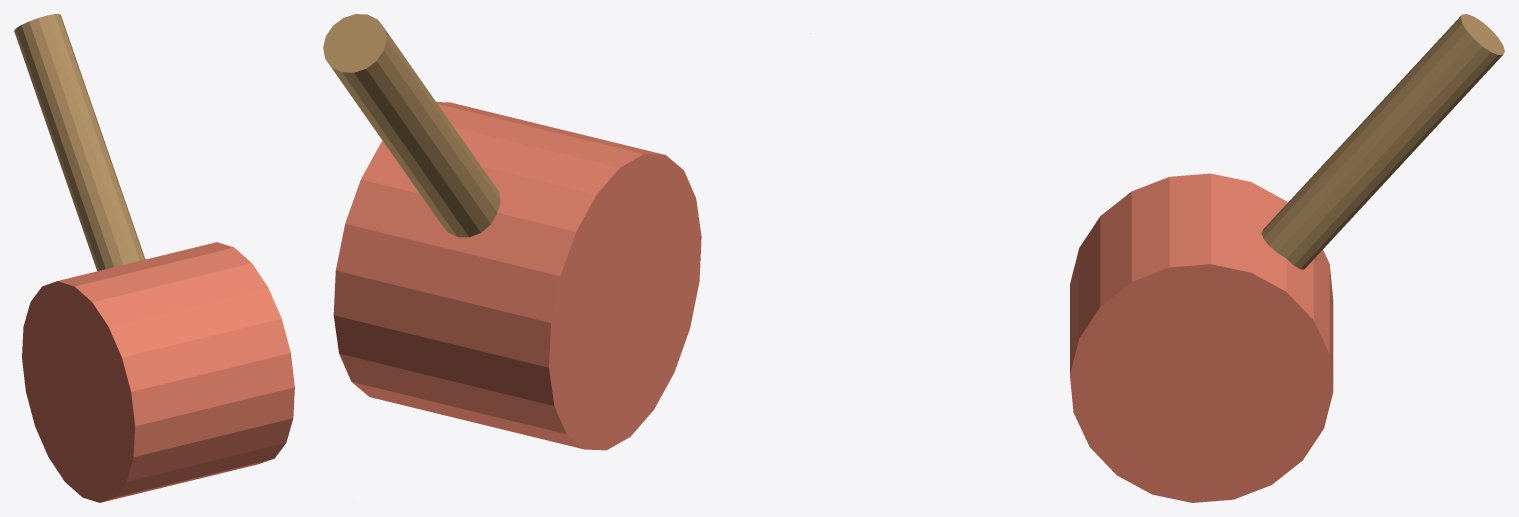
Rendered from mallet_2tou_3d.glb.
3 views of the same model, side by side, from view 1: azimuth 30°, elevation 25°; view 2: azimuth 150°, elevation 25°; view 3: azimuth 270°, elevation 25° (orthographic). The views are drawn at different scales.
Visible parts, largest first — view 1: mallet_head, mallet_handle; view 2: mallet_head, mallet_handle; view 3: mallet_head, mallet_handle.
Part boxes in pixels (bbox=[...]): mallet_head: bbox=[22, 242, 294, 502]; mallet_handle: bbox=[14, 14, 145, 271]; mallet_head: bbox=[333, 102, 701, 450]; mallet_handle: bbox=[323, 14, 500, 237]; mallet_head: bbox=[1070, 173, 1333, 502]; mallet_handle: bbox=[1261, 14, 1504, 269].
Bounding box in the file's own units: 0.26 × 0.5881 × 0.8068.
5 materials, 2 textured.
